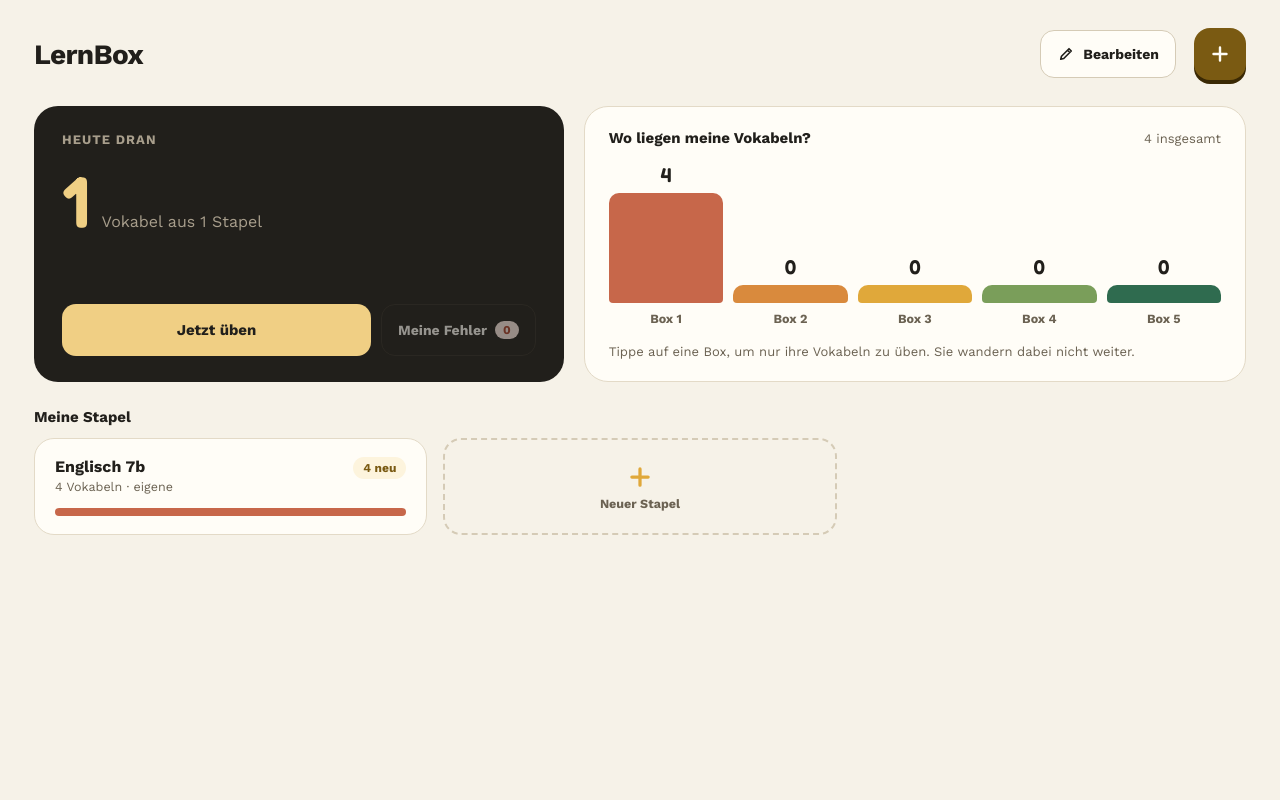
Test: LernBox: Heute dran aus der Tagesportion › startet die Portion auch über „Jetzt üben“
Click the button "Jetzt üben". click: [216, 330]
box: [62,304,371,356]
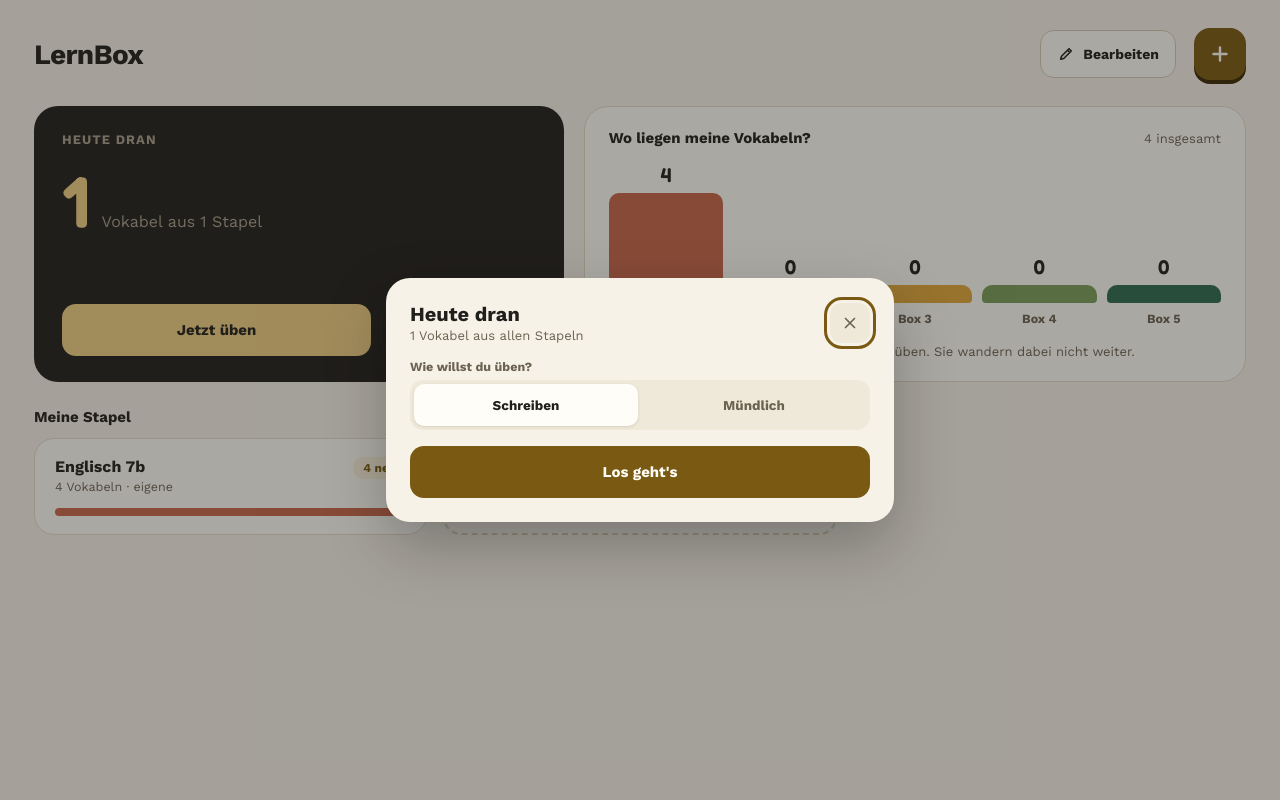
Click the button "Mündlich". click: [754, 405]
box: [642,384,866,426]
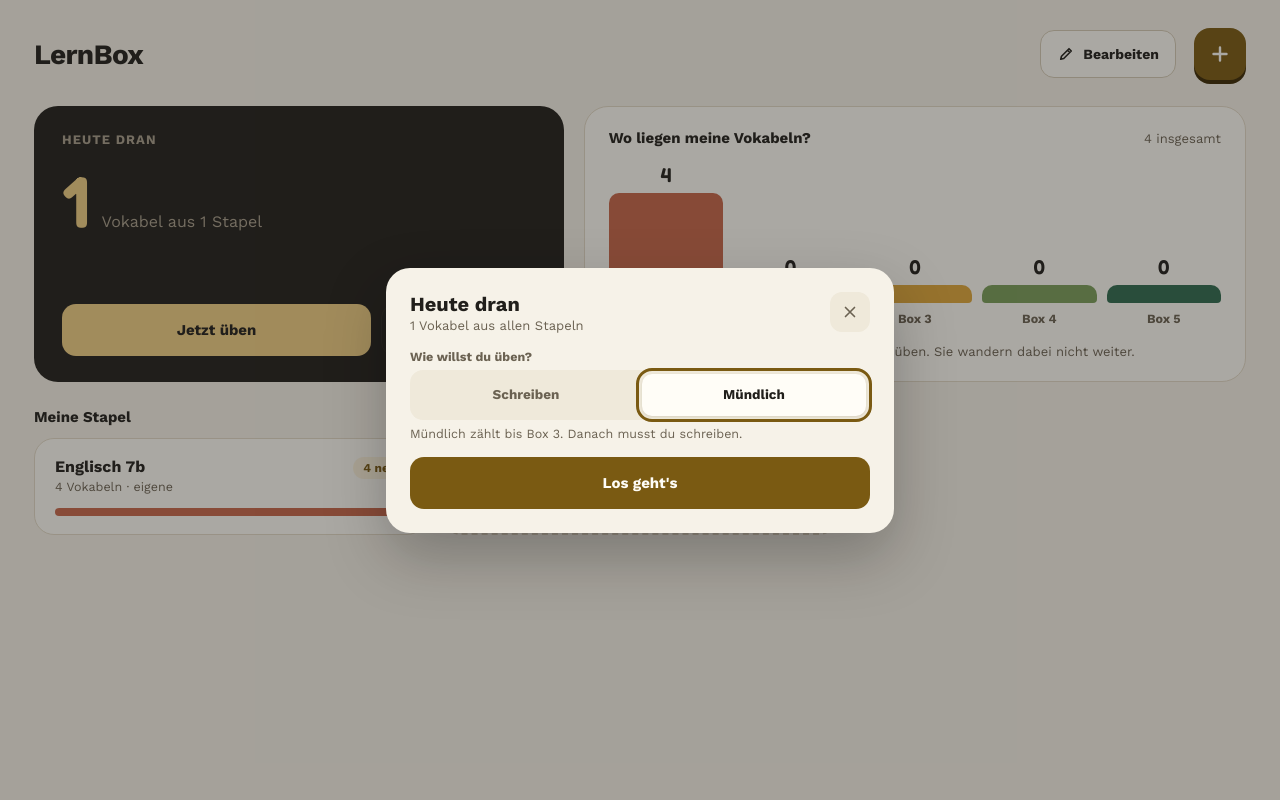
Click the button "Los geht's". click: [640, 482]
box: [410,456,870,508]
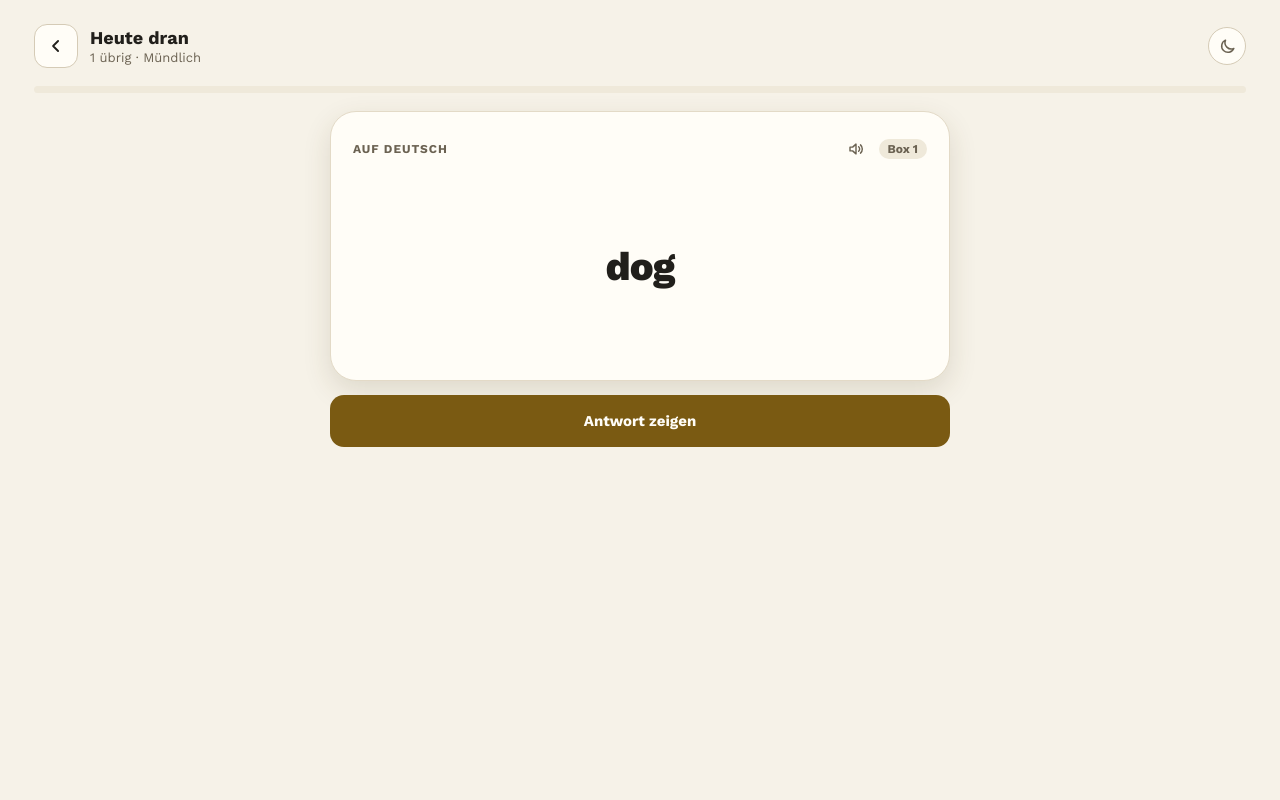
Click the button "Antwort zeigen". click: [640, 421]
box: [330,395,950,447]
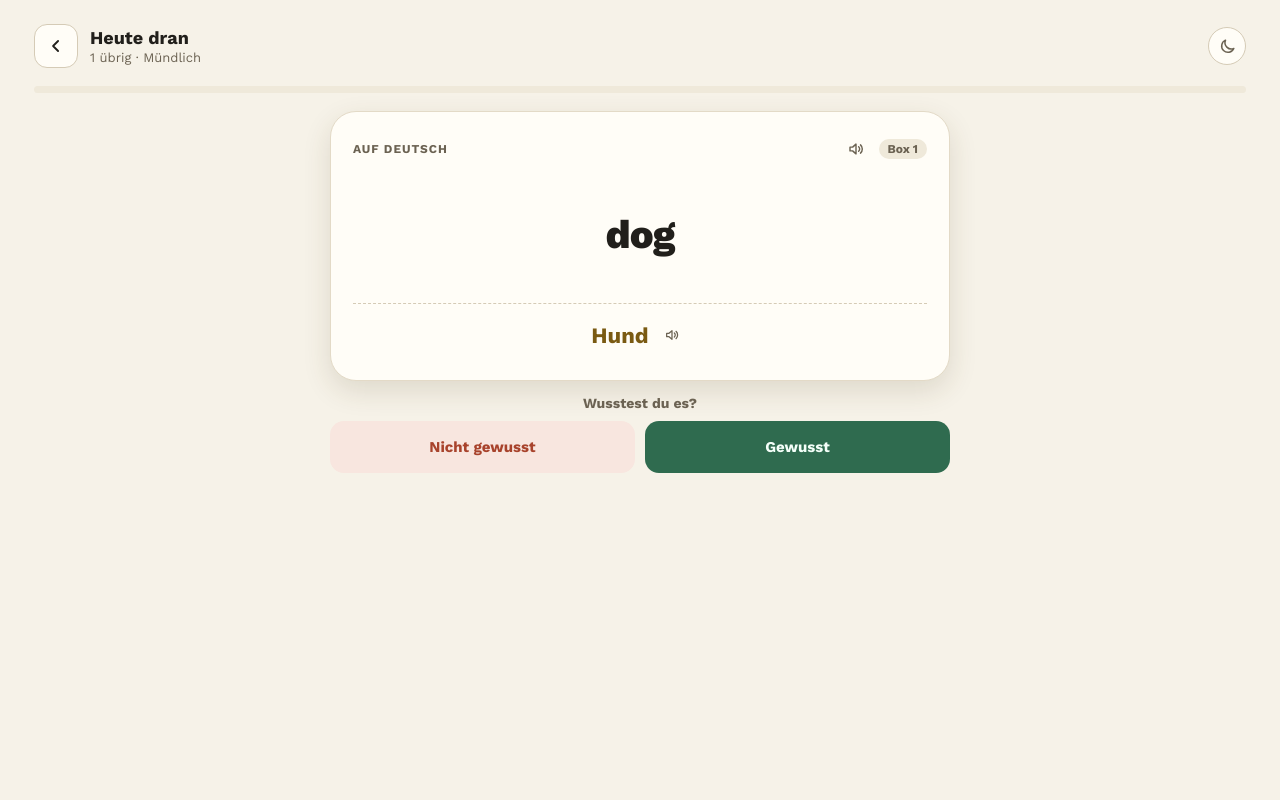
Click the button "Gewusst". click: [798, 447]
box: [645,421,950,473]
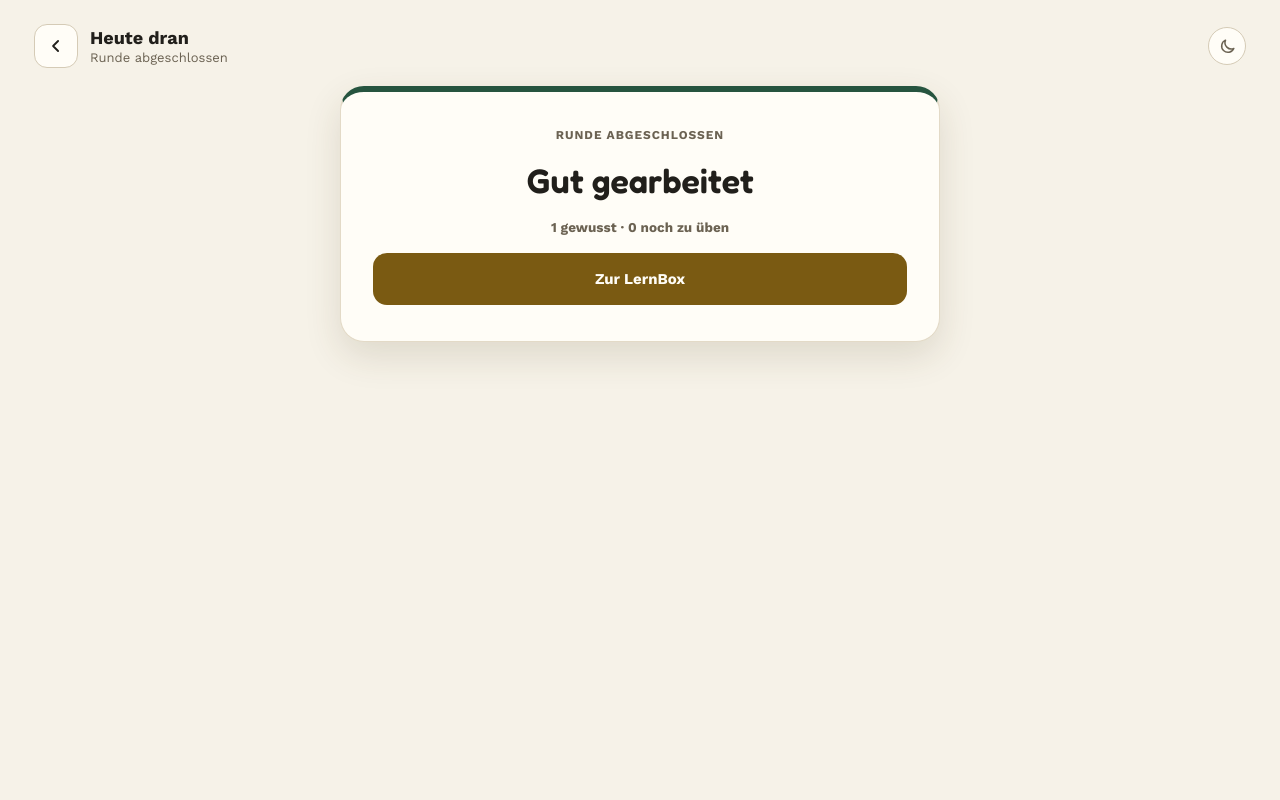
expect the heading "dog" no longer shows "dog": met
